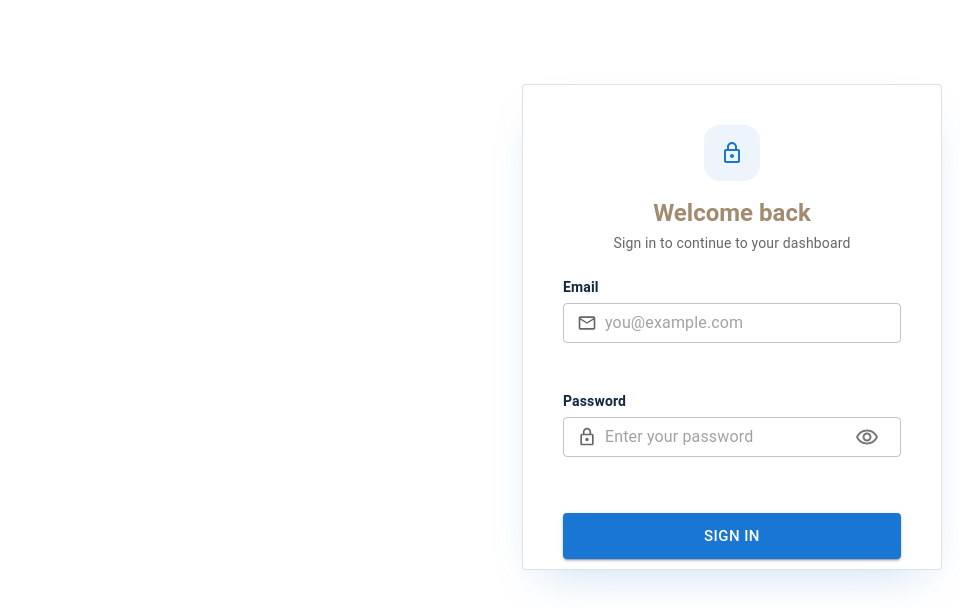
SignInPage › navigates to the ?next= path after signing in
Type "admin@example.com" into the field with placeholder "you@example.com" at (753, 323), box [605,303,901,343]
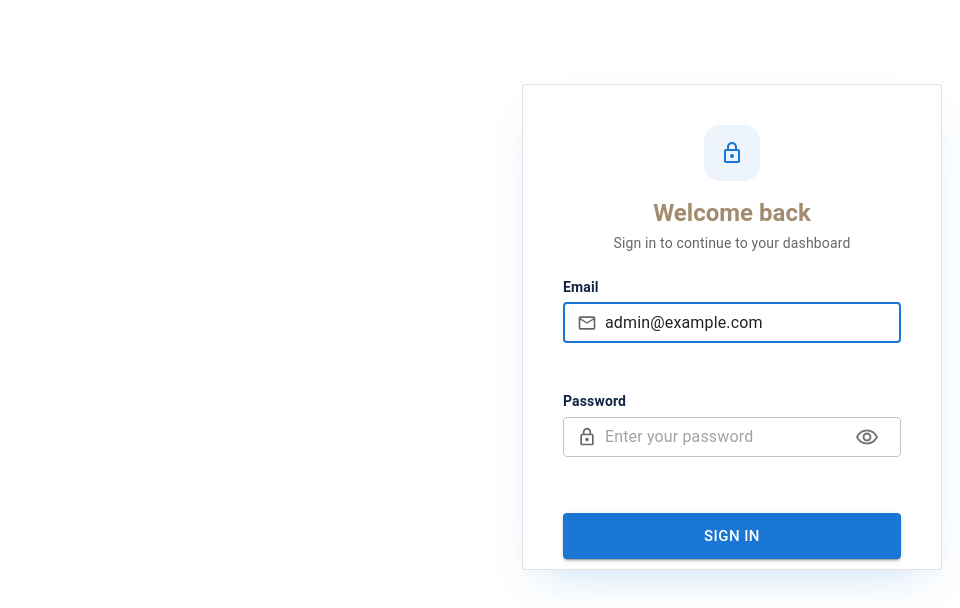
Type "secret-password" into the password field with placeholder "Enter your password" at (722, 437), box [605,417,839,457]
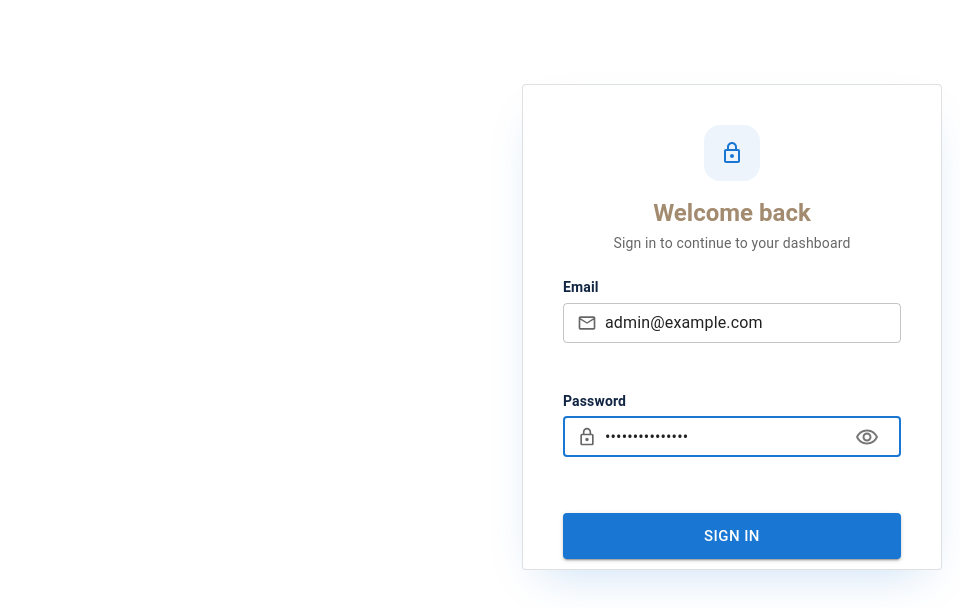
Click the button "Sign In" at (732, 536), box [563,513,901,559]
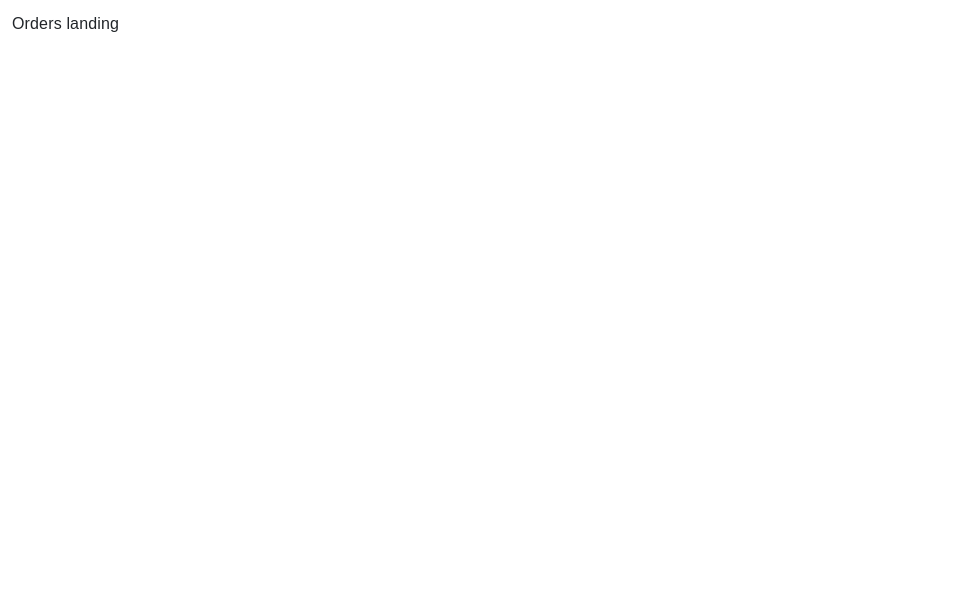
Check: the text "Orders landing" is shown, box [12,15,119,32]
